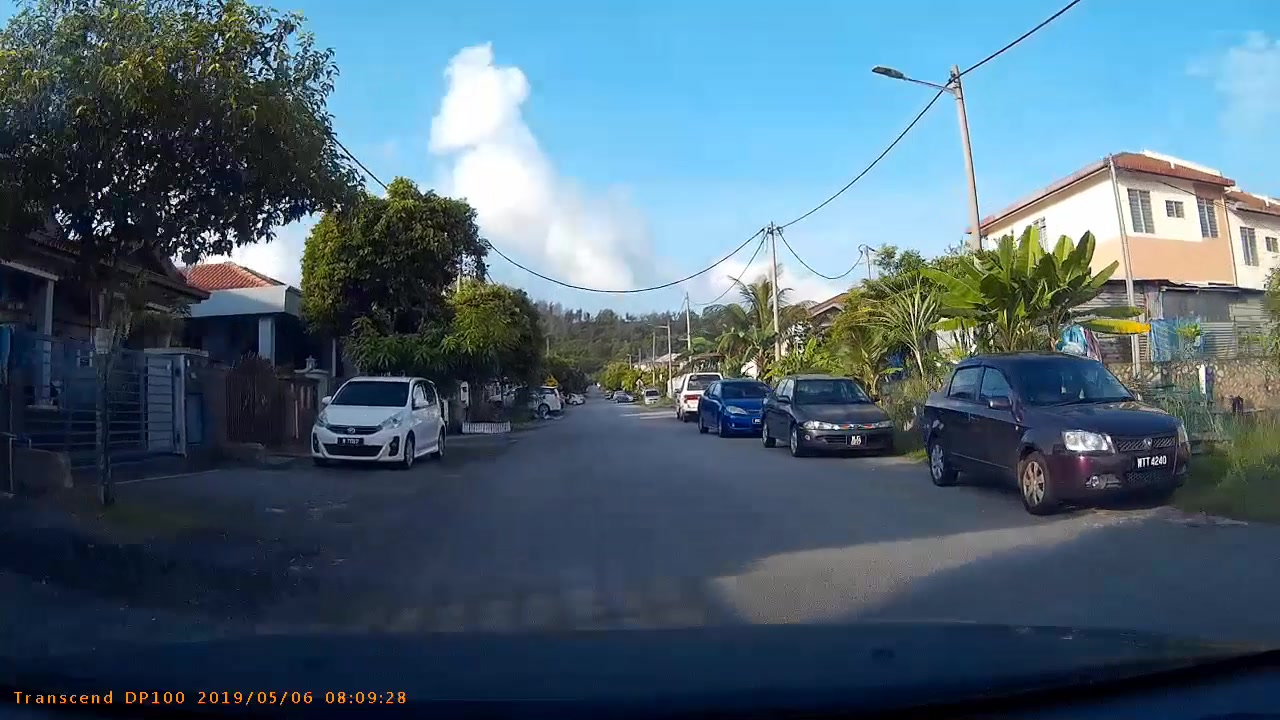license-plate: (1134, 450, 1179, 472), (842, 431, 871, 448), (336, 434, 366, 447)
